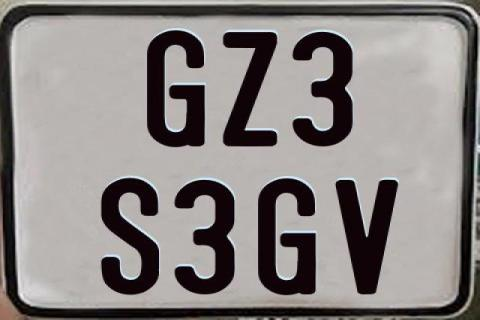0: (174, 178, 238, 292), (290, 32, 351, 146)
G: (255, 177, 319, 297), (146, 29, 208, 149)
S: (100, 175, 162, 293)
V: (333, 178, 401, 294)
Z: (222, 32, 277, 150)
